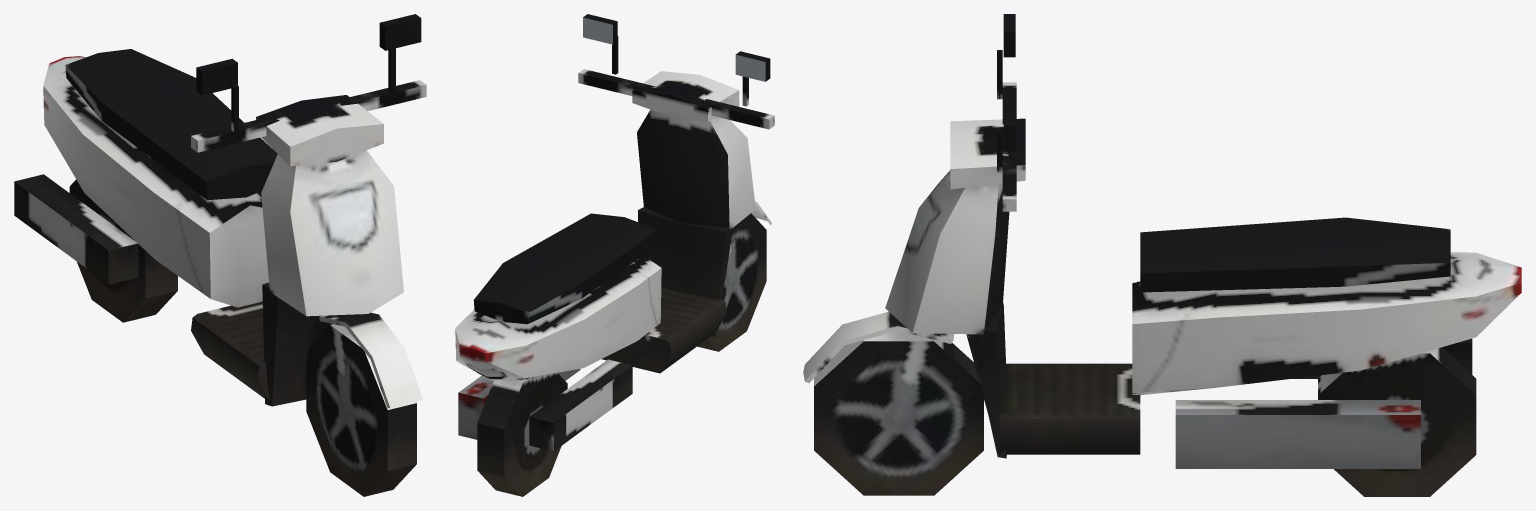
Rendered from bike_lod.glb.
3 views of the same model, side by side, from view 1: azimuth 30°, elevation 25°; view 2: azimuth 150°, elevation 25°; view 3: azimuth 270°, elevation 25° (orthographic). The views are drawn at different scales.
Visible parts, largest first — view 1: bike_lod; view 2: bike_lod; view 3: bike_lod.
Part boxes in pixels (<box>): bike_lod: <box>14,14,426,496</box>; bike_lod: <box>455,14,774,496</box>; bike_lod: <box>803,14,1521,496</box>.
Bounding box in the file's own units: 0.7 × 1.17 × 1.82.
Materials: 1 (1 with a texture image).
